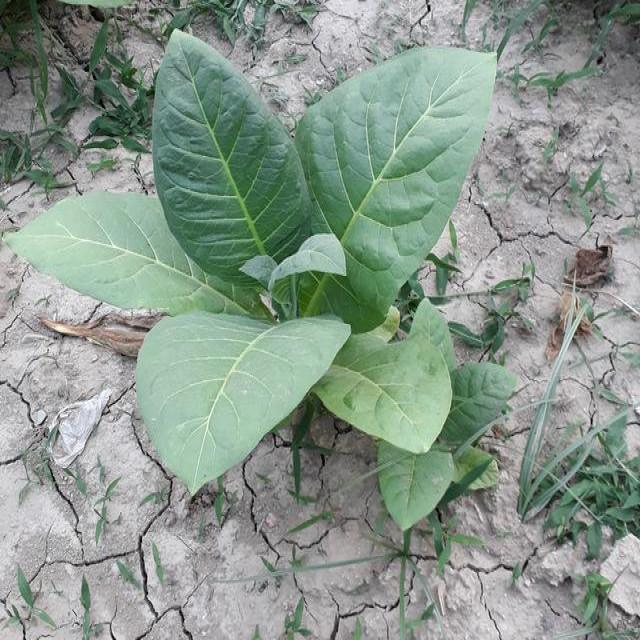crop: (40, 26, 510, 530)
